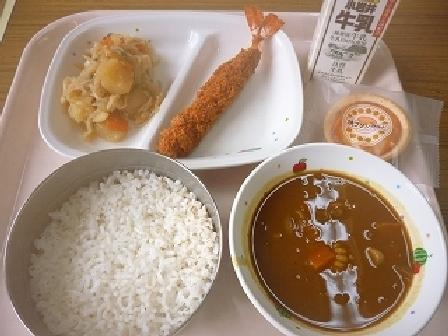Cup desserts: (307, 72, 433, 166)
Curry: (238, 155, 443, 328)
Milk: (305, 3, 411, 82)
Rice: (7, 156, 231, 331)
seafood: (158, 0, 295, 157)
vegetable based cooked food: (51, 37, 154, 134)
